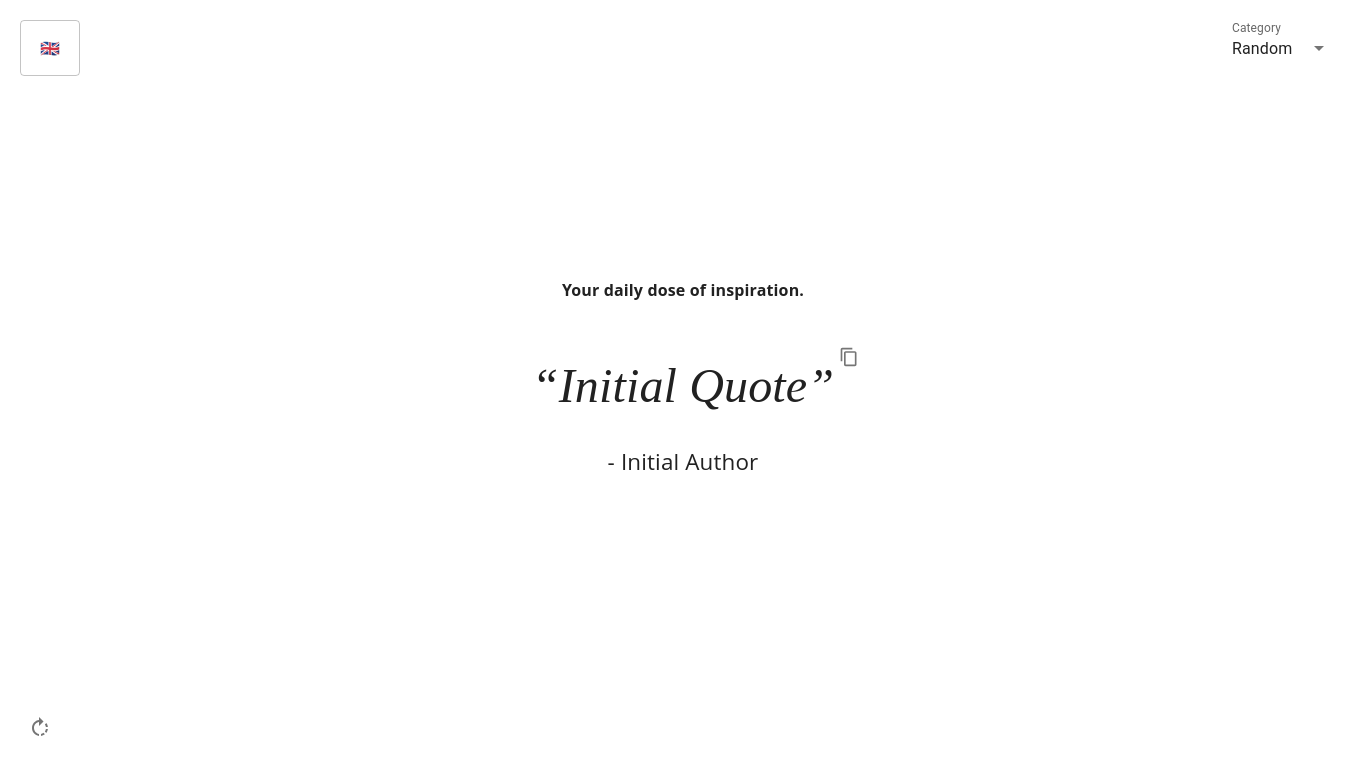
HomePage › fetches and displays a new quote on button click
The width and height of the screenshot is (1366, 768).
expect the text "“Initial Quote”" is shown: met, box [532,350,834,422]
expect the text "- Initial Author" is shown: met, box [608,446,758,476]
What coordinates should you click on to do the following:
click the button with test id "refresh-quote-btn"
I would click on:
 (40, 728)
Its box is [20,708,60,748].
Wait 5000 ms
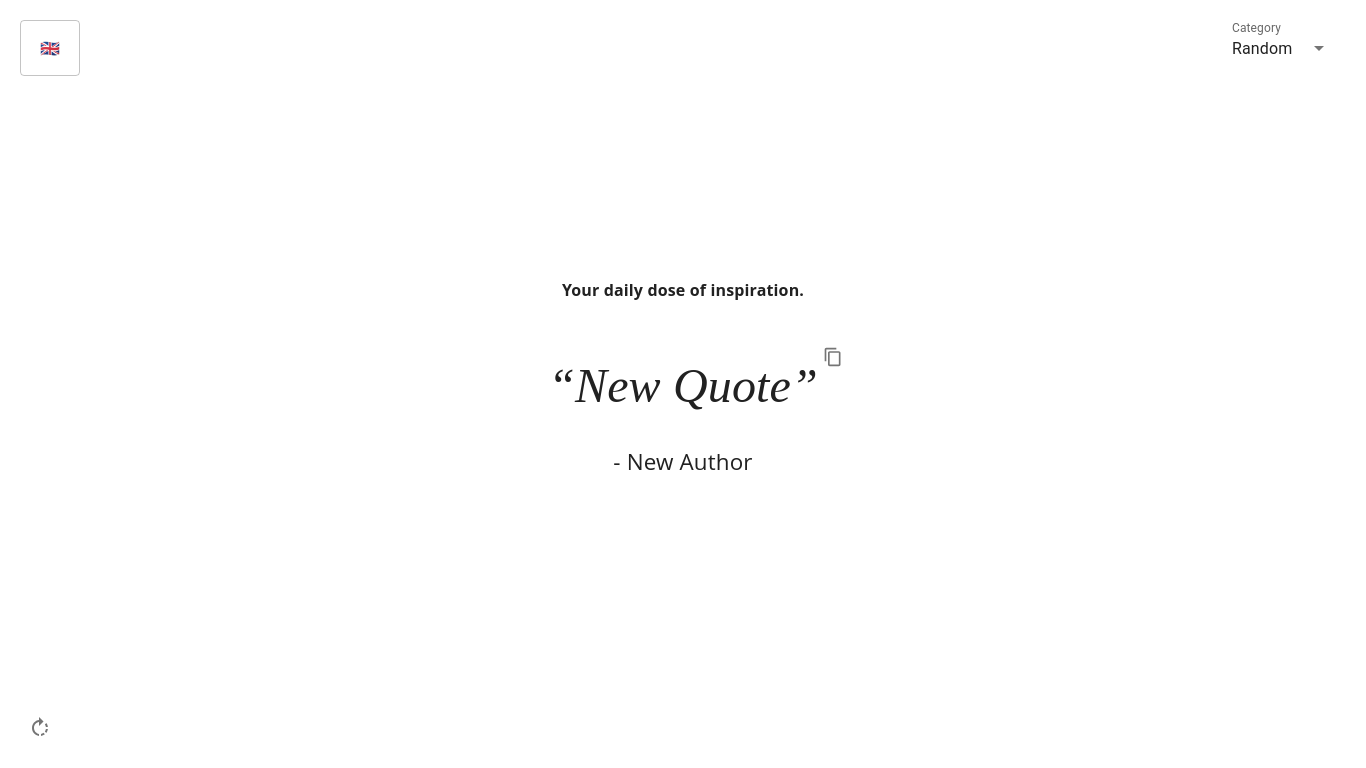
expect the text "“New Quote”" is shown: met, box [548,350,818,422]
expect the text "- New Author" is shown: met, box [613,446,753,476]
